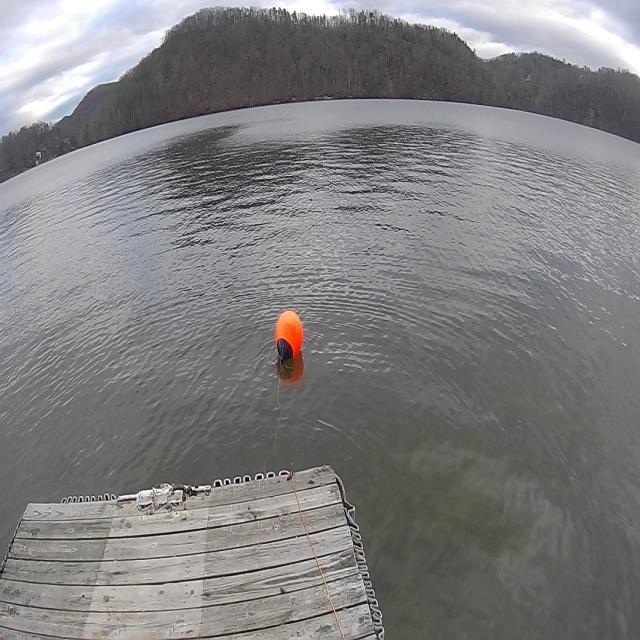Buoy: (272, 304, 306, 379)
